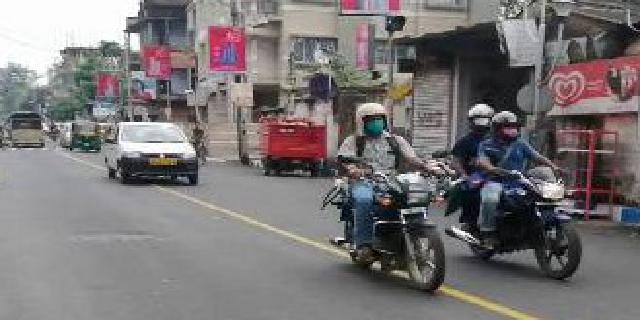Autorickshaw: (68, 116, 102, 161)
Car: (105, 118, 203, 188)
Minitruck: (258, 114, 328, 181)
Motorbike: (321, 96, 451, 299), (443, 102, 585, 283)
